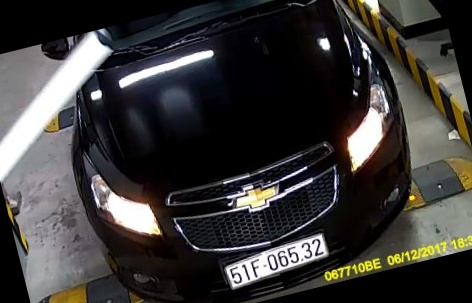plate: (220, 221, 329, 292)
